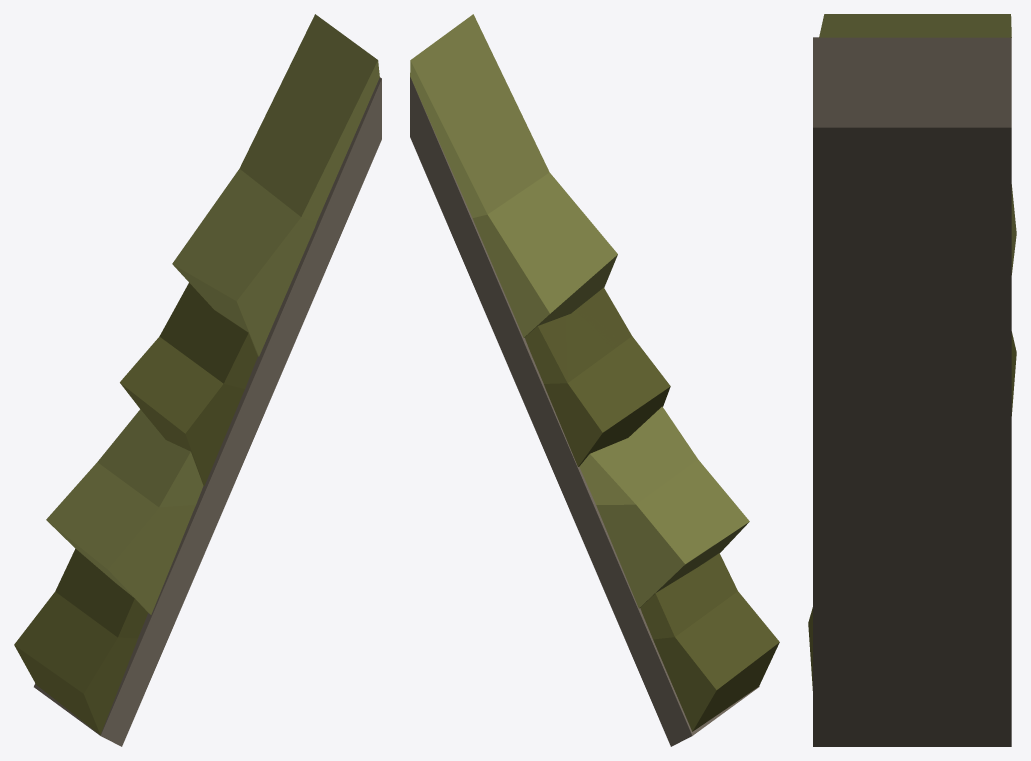
File: _ROOF_SMALL_TILE_04_1.fbx
The picture shows the model from 3 angles, left to right: view 1: azimuth 30°, elevation 25°; view 2: azimuth 150°, elevation 25°; view 3: azimuth 270°, elevation 25°; orthographic projection. The views are drawn at different scales.
Visible parts, largest first — view 1: ROOF_SMALL_TILE_04_1; view 2: ROOF_SMALL_TILE_04_1; view 3: ROOF_SMALL_TILE_04_1.
Part boxes in pixels (x1,y1,x2,y2): ROOF_SMALL_TILE_04_1: (14, 14, 381, 746); ROOF_SMALL_TILE_04_1: (410, 14, 779, 746); ROOF_SMALL_TILE_04_1: (808, 14, 1016, 746).
Size of the model in its own units: 58.32 by 114 by 23.41.
